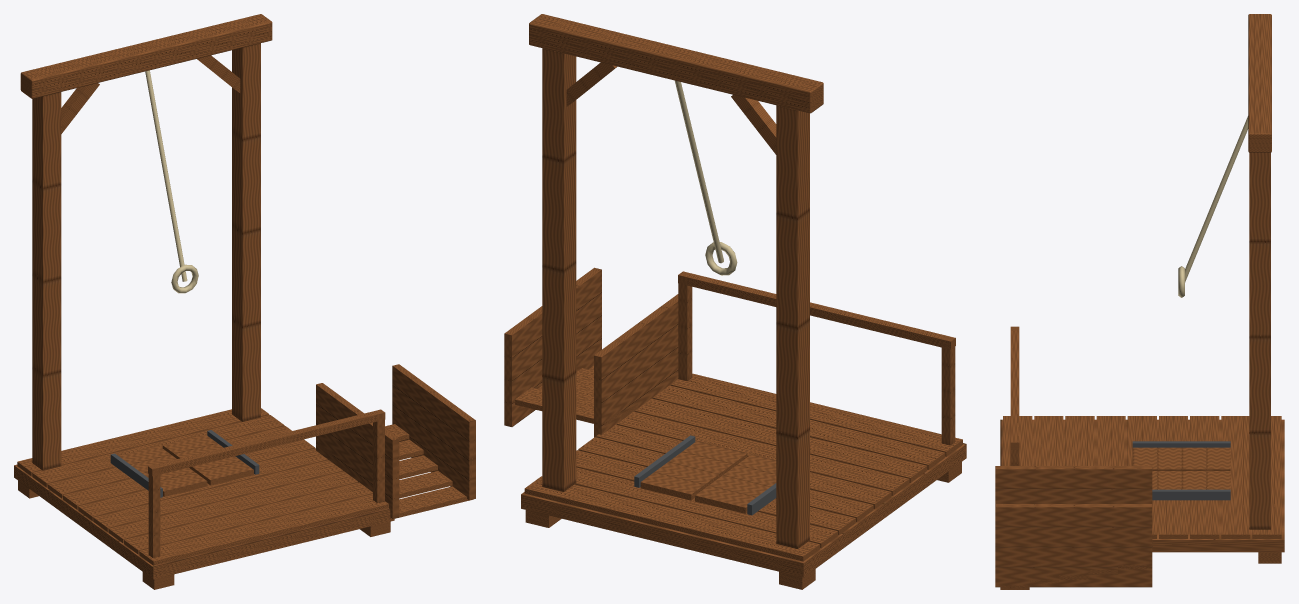
File: wild-west-frontier-town-town-gallows-1858449e__30097.glb
3 views of the same model, side by side, from view 1: azimuth 30°, elevation 25°; view 2: azimuth 150°, elevation 25°; view 3: azimuth 270°, elevation 25° (orthographic). The views are drawn at different scales.
Parts seen in each view (by area): view 1: town-gallows; view 2: town-gallows; view 3: town-gallows.
Part boxes in pixels (x1,y1,x2,y2): town-gallows: [14, 14, 475, 589]; town-gallows: [504, 14, 966, 589]; town-gallows: [995, 14, 1284, 589].
Bounding box in the file's own units: 3.85 × 4.85 × 2.95.
3 materials, 1 textured.
